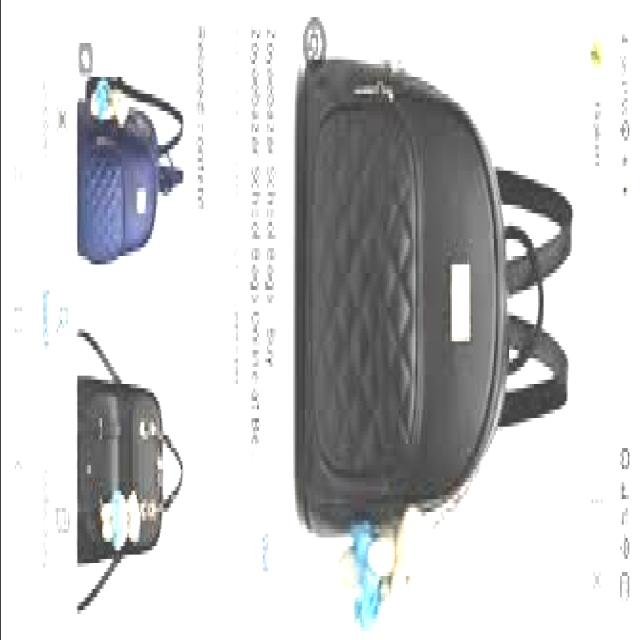backpack: (297, 18, 574, 543)
